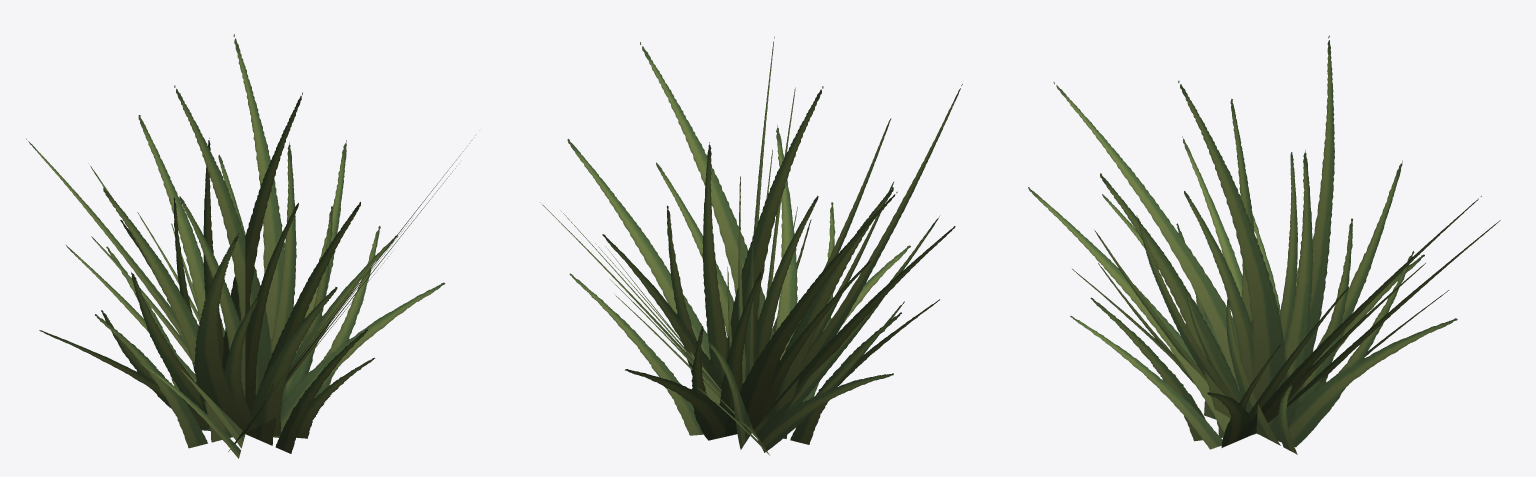
File: Me_Grass.fbx
The picture shows the model from 3 angles, left to right: view 1: azimuth 30°, elevation 25°; view 2: azimuth 150°, elevation 25°; view 3: azimuth 270°, elevation 25°; orthographic projection.
Parts seen in each view (by area): view 1: polySurface25; view 2: polySurface25; view 3: polySurface25.
Boxes of the visible parts, x1,y1,x2,y2 form: polySurface25: (26,34,475,458); polySurface25: (542,36,962,455); polySurface25: (1028,35,1500,454).
Bounding box in the file's own units: 20.34 × 17.49 × 21.35.
